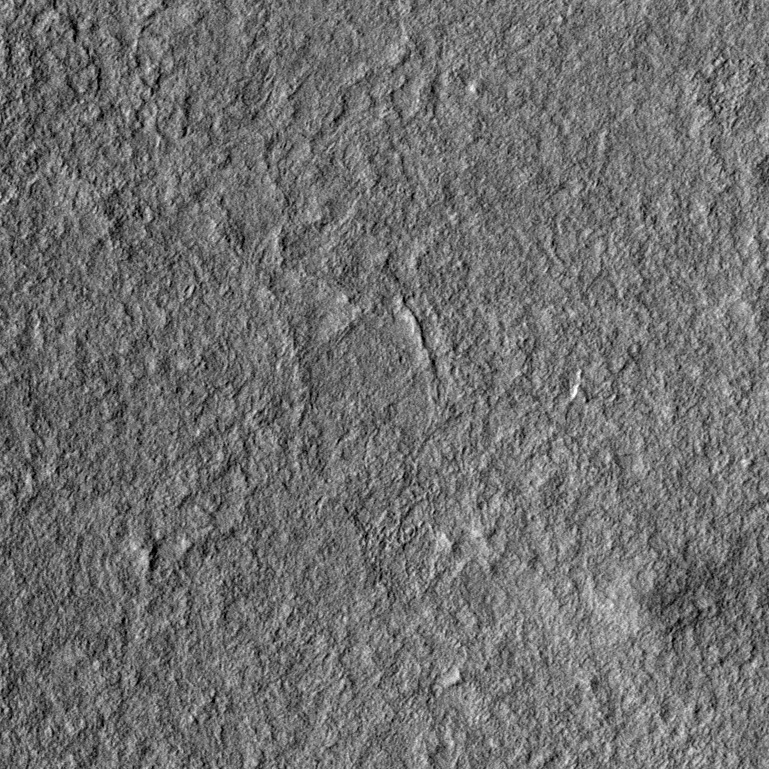dust_devil: (590, 561, 724, 645)
